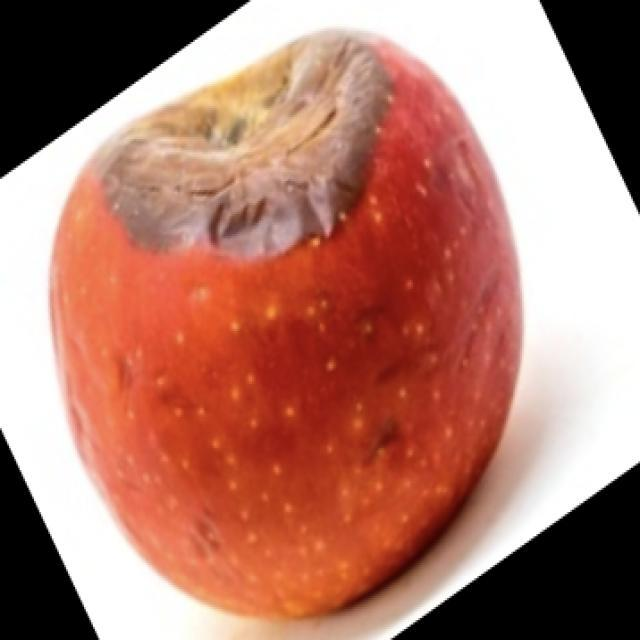Rotten: (28, 33, 532, 622)
